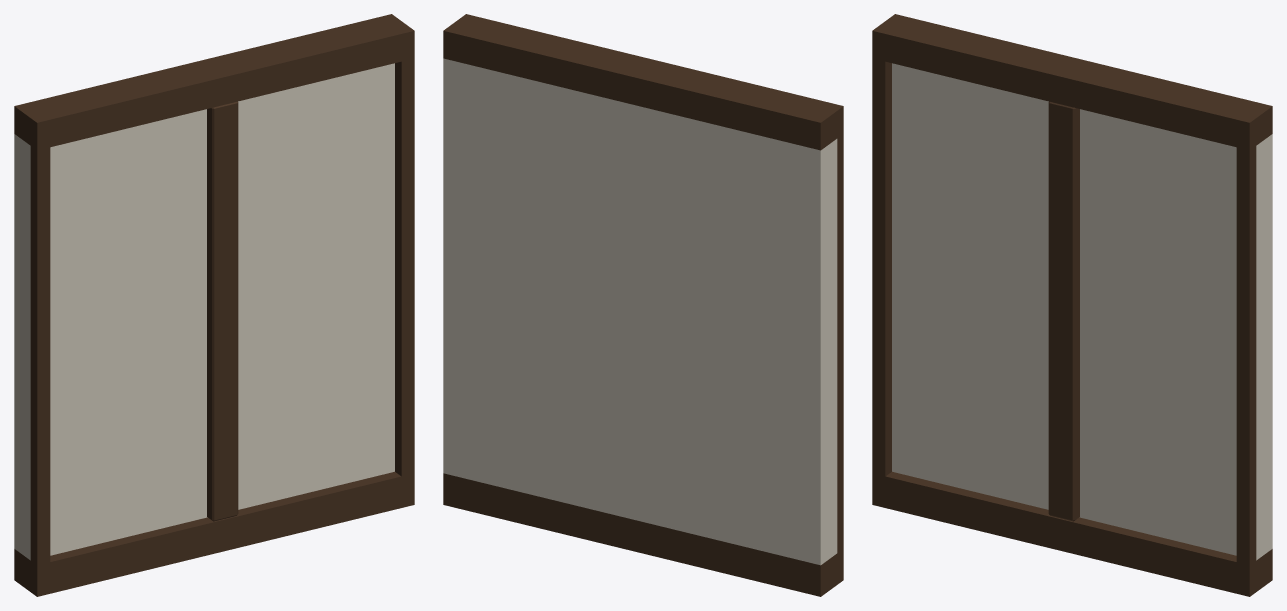
Rendered from mdvl_village_wall_plain_01.glb.
3 views of the same model, side by side, from view 1: azimuth 30°, elevation 25°; view 2: azimuth 150°, elevation 25°; view 3: azimuth 330°, elevation 25° (orthographic).
Parts seen in each view (by area): view 1: mdvl_village_wall_plain_01; view 2: mdvl_village_wall_plain_01; view 3: mdvl_village_wall_plain_01.
Boxes of the visible parts, box(x1,y1,x2,y2) form: mdvl_village_wall_plain_01: box(14, 14, 414, 596); mdvl_village_wall_plain_01: box(443, 14, 843, 596); mdvl_village_wall_plain_01: box(872, 14, 1272, 596).
Size of the model in its own units: 2 by 2.4 by 0.21.
1 material, 1 textured.
